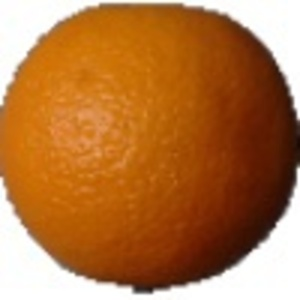laranja: (3, 1, 296, 298)
